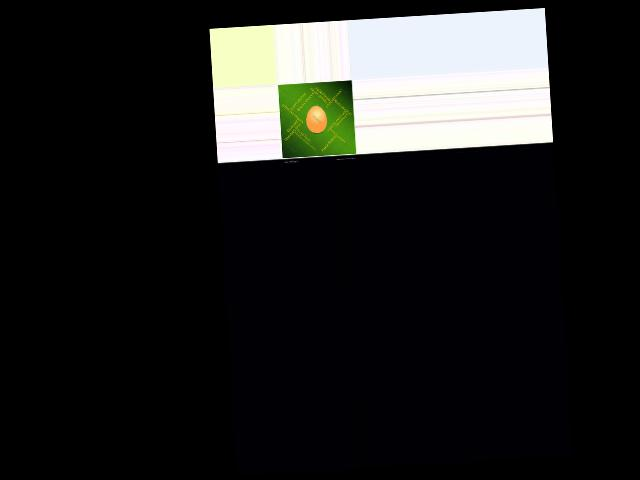egg: (305, 105, 328, 133)
